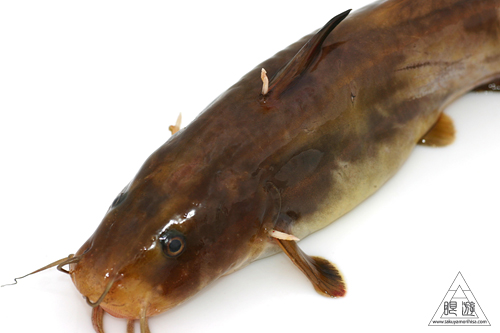gonzui: (20, 7, 491, 325)
